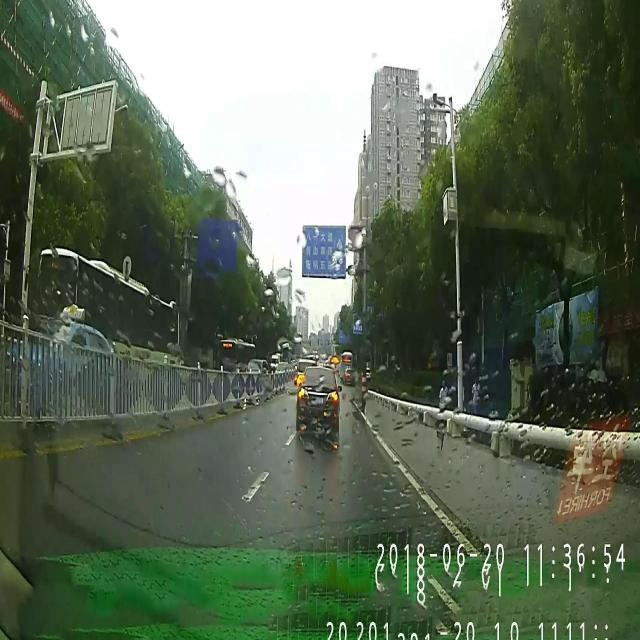car: (294, 364, 340, 446)
